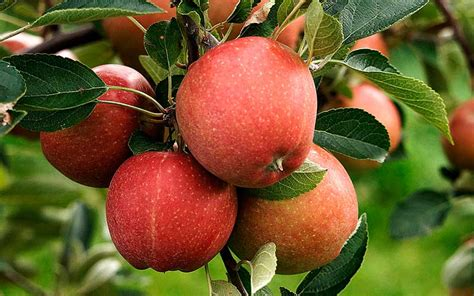apple: (173, 35, 323, 191), (105, 144, 239, 274)
